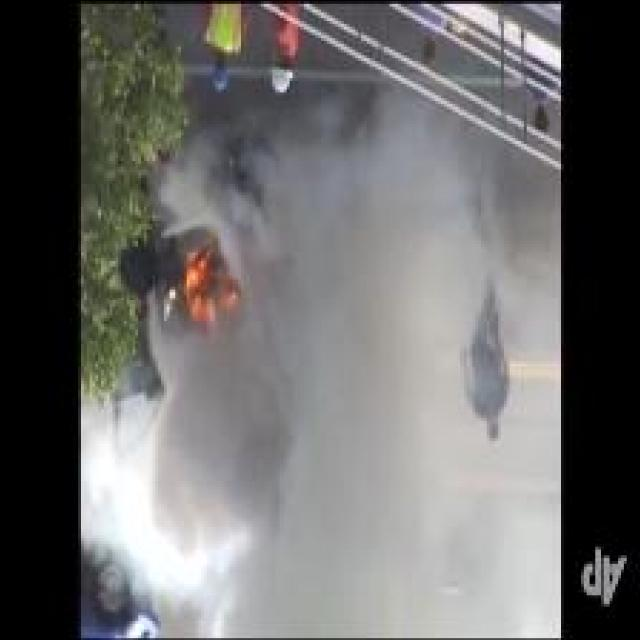Fire: (180, 246, 243, 332)
